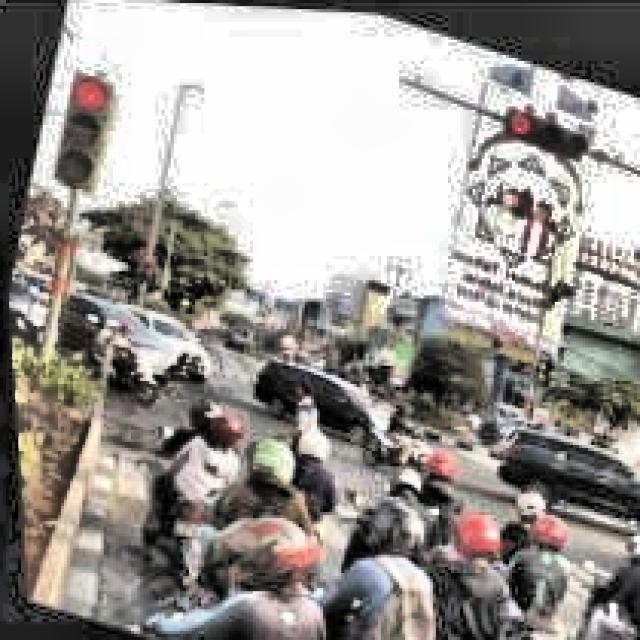red: (42, 68, 116, 188), (497, 99, 588, 151)
